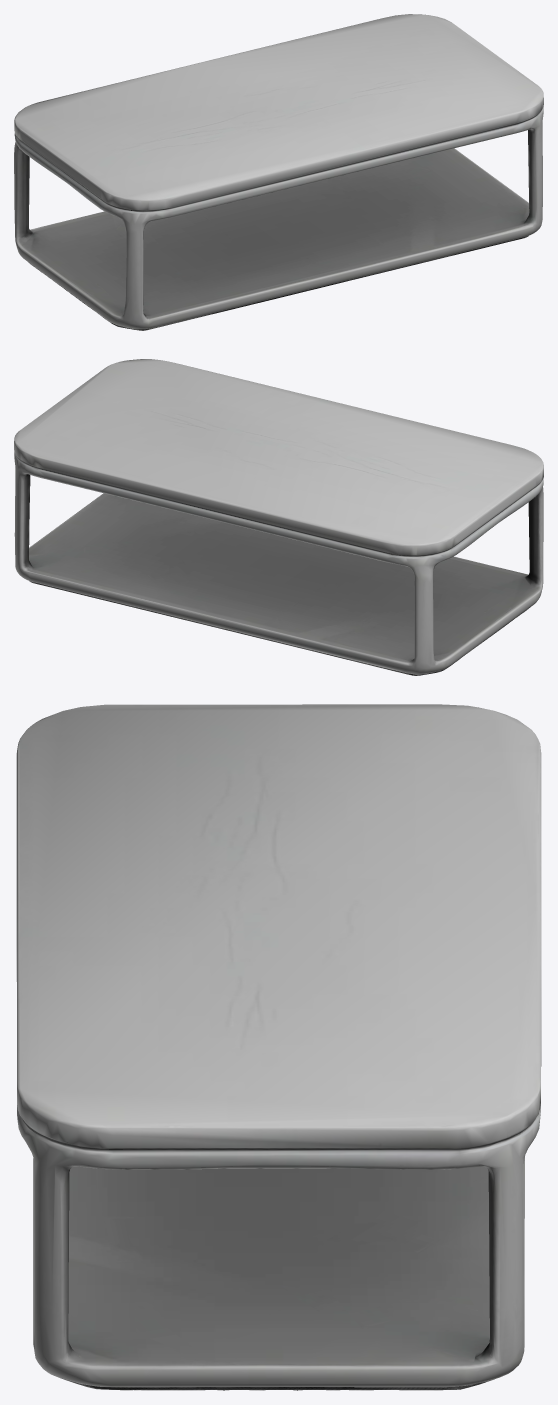
File: coffee-table.glb
3 renders of one model, top to bottom at view 1: azimuth 30°, elevation 25°; view 2: azimuth 150°, elevation 25°; view 3: azimuth 270°, elevation 25°, orthographic. The views are drawn at different scales.
Visible parts, largest first — view 1: node_0; view 2: node_0; view 3: node_0.
Part boxes in pixels (x1=…): node_0: x1=14, y1=14, x2=543, y2=330; node_0: x1=14, y1=359, x2=543, y2=675; node_0: x1=16, y1=704, x2=541, y2=1390.
Size of the model in its own units: 1.08 by 0.3283 by 0.5675.
1 material, 1 textured.
